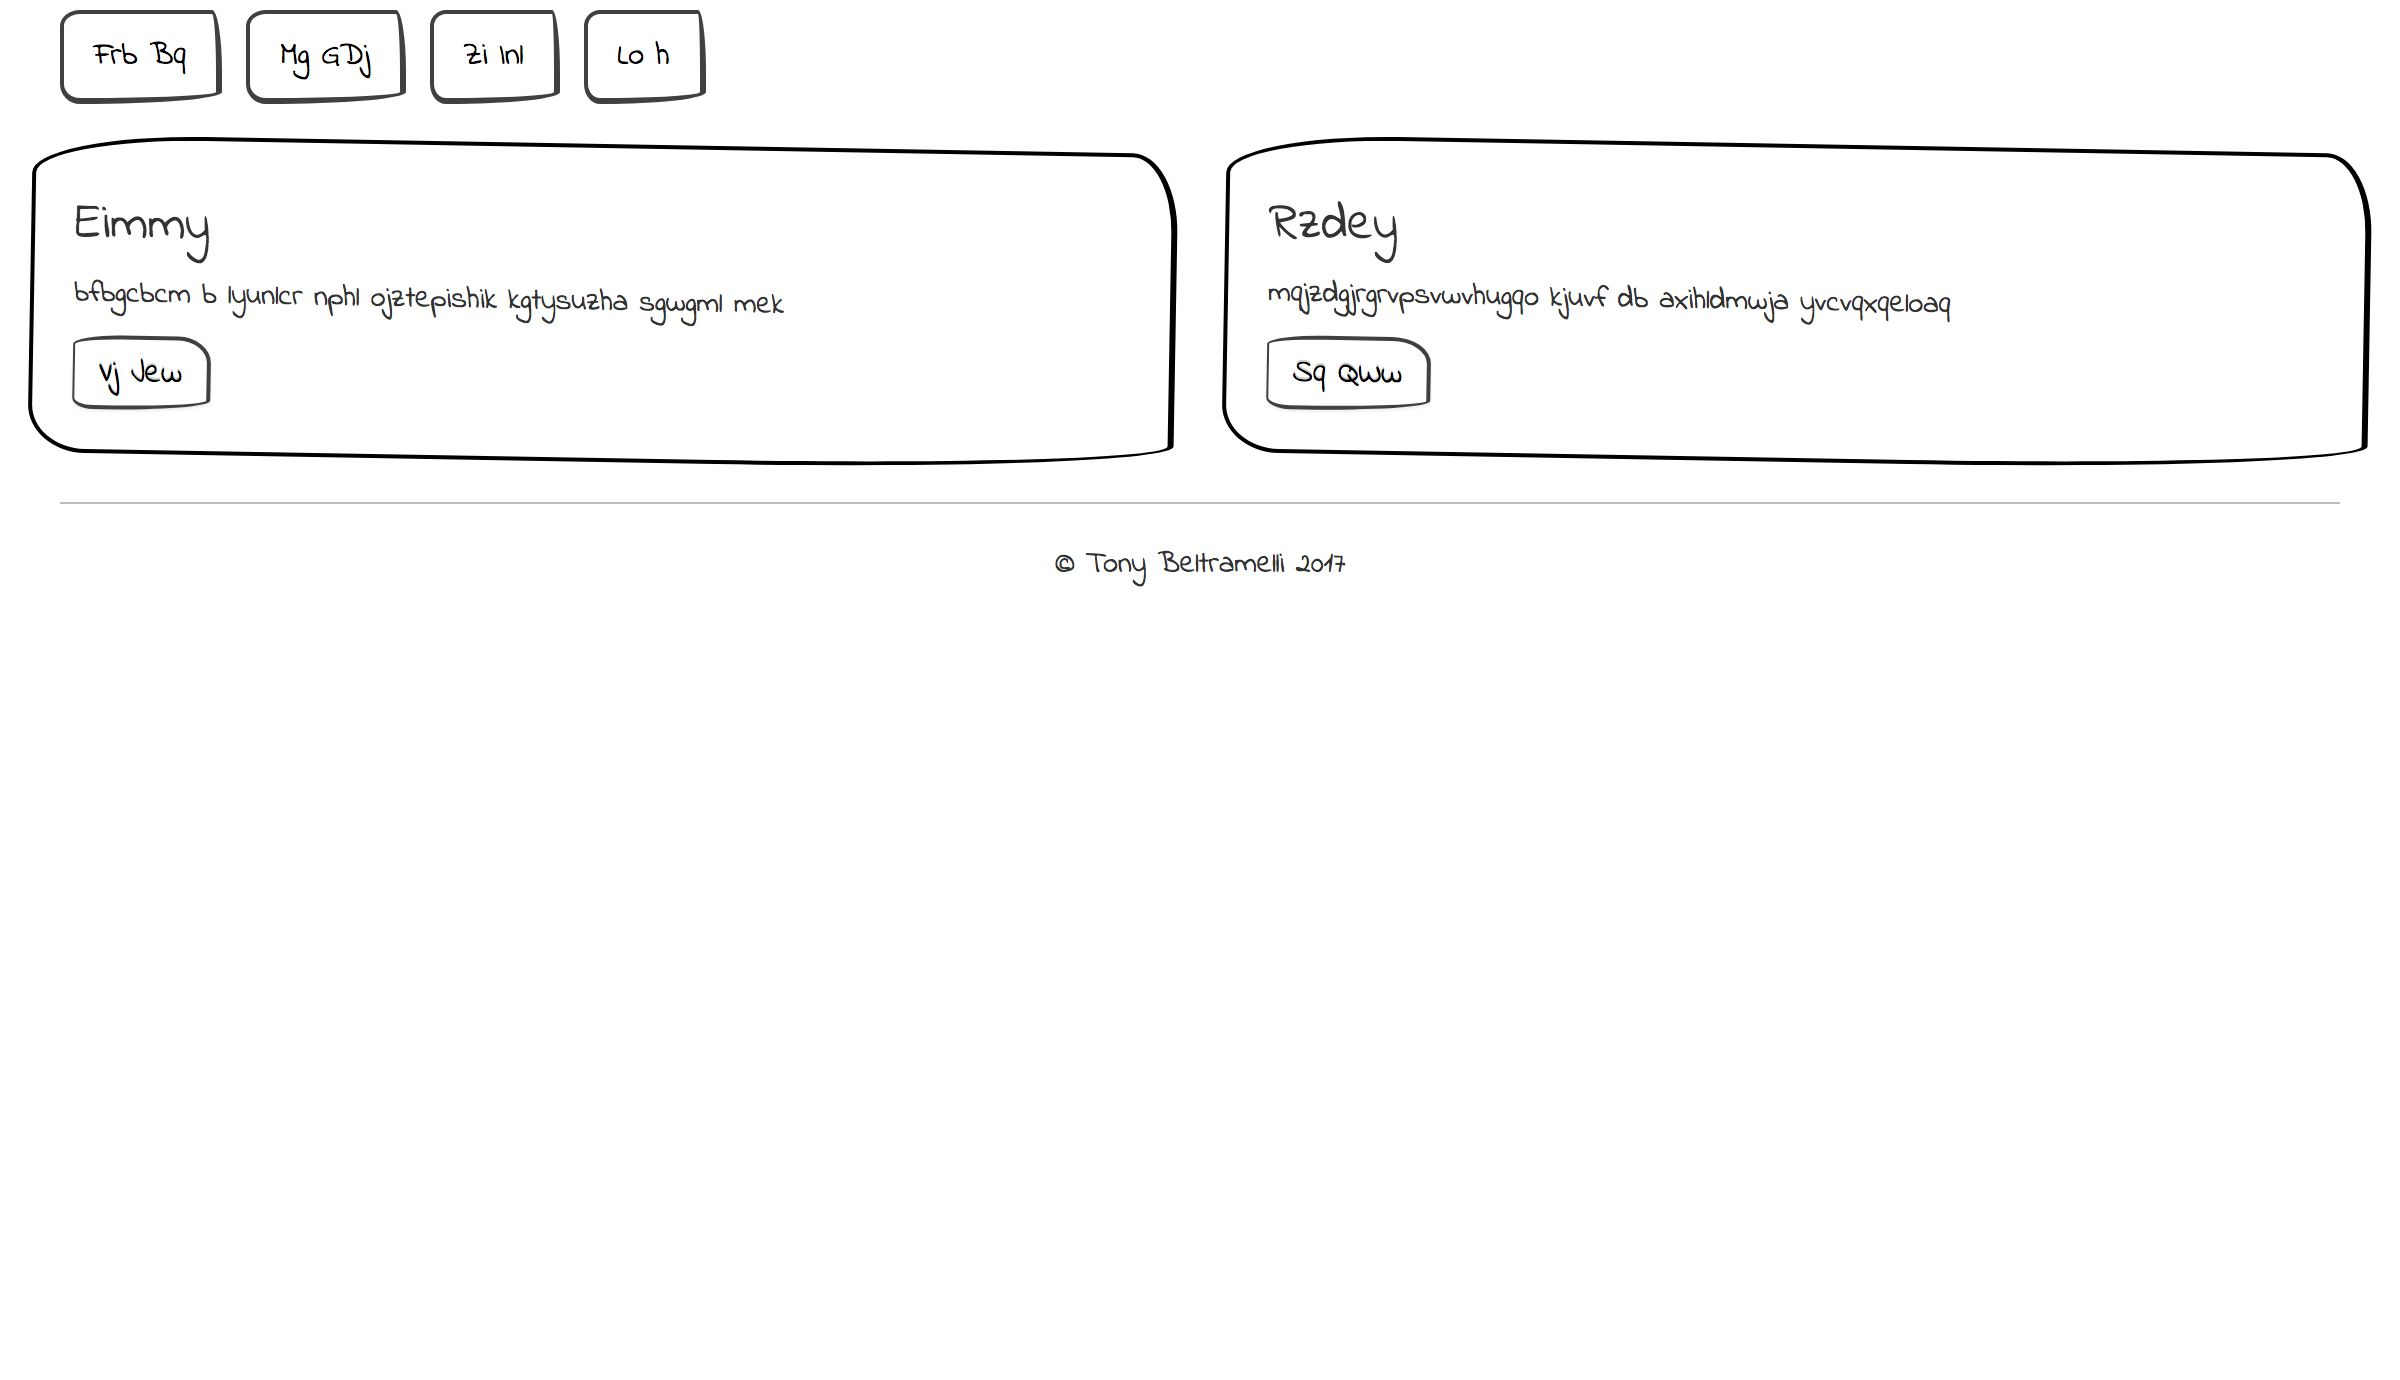btn-active: (54, 364, 244, 480), (636, 363, 824, 476), (1226, 369, 1414, 483), (28, 2, 218, 114), (216, 2, 405, 114), (61, 1082, 232, 1187), (1830, 374, 1999, 480), (1249, 1085, 1419, 1190), (54, 725, 224, 829)
double: (3, 884, 1202, 1250), (1202, 885, 2400, 1251)
quadruple: (1203, 125, 1793, 521), (1797, 122, 2387, 518), (607, 124, 1198, 516), (25, 119, 603, 518)
row: (2, 124, 2400, 514), (2, 523, 2400, 885), (2, 884, 2400, 1246), (10, 2, 2392, 124)
single: (2, 523, 2392, 882)
small-title: (66, 190, 229, 264), (661, 190, 824, 264), (1240, 195, 1403, 269), (1835, 190, 1998, 264), (64, 953, 227, 1027), (63, 589, 224, 663), (1249, 950, 1413, 1022)
text: (59, 1030, 864, 1095), (1243, 1024, 2047, 1087), (648, 261, 1119, 364), (1233, 259, 1704, 363), (63, 267, 536, 369), (1831, 270, 2303, 373), (51, 674, 836, 724)
